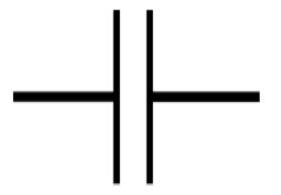Capacitor: (84, 4, 186, 187)
